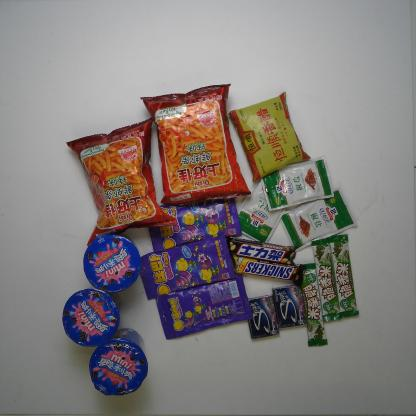Candy: (155, 272, 255, 340), (139, 234, 238, 301), (148, 197, 243, 254)
Chocolate: (311, 237, 343, 322), (228, 252, 304, 286), (329, 234, 360, 317), (300, 263, 328, 348), (225, 235, 298, 267)
Dessert: (88, 328, 148, 396), (82, 233, 142, 295), (61, 288, 121, 348)
Gum: (271, 284, 307, 329), (246, 293, 281, 339)
Puffed Food: (65, 116, 178, 248), (140, 83, 252, 205)
Seasoner: (226, 89, 312, 183), (280, 186, 358, 253), (260, 155, 336, 212), (236, 180, 286, 244)
